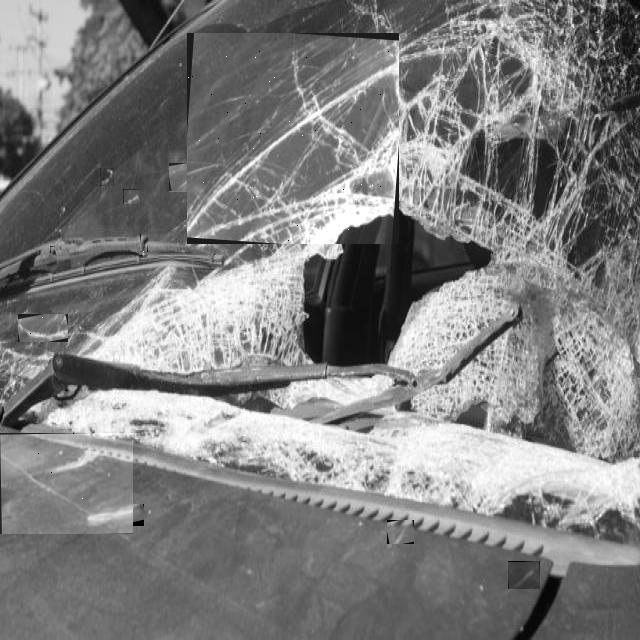Dent: (187, 33, 399, 244), (0, 433, 133, 534), (169, 164, 230, 194), (18, 314, 68, 342), (44, 448, 100, 472), (85, 504, 144, 526), (508, 561, 540, 589), (387, 520, 414, 544), (123, 189, 140, 204), (100, 168, 114, 186), (140, 234, 148, 252), (50, 246, 55, 253)
